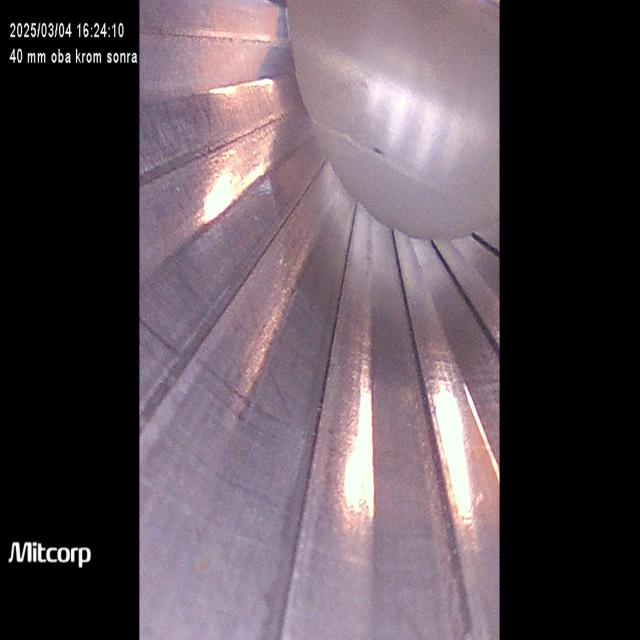hata_8.1: (147, 309, 344, 458)
